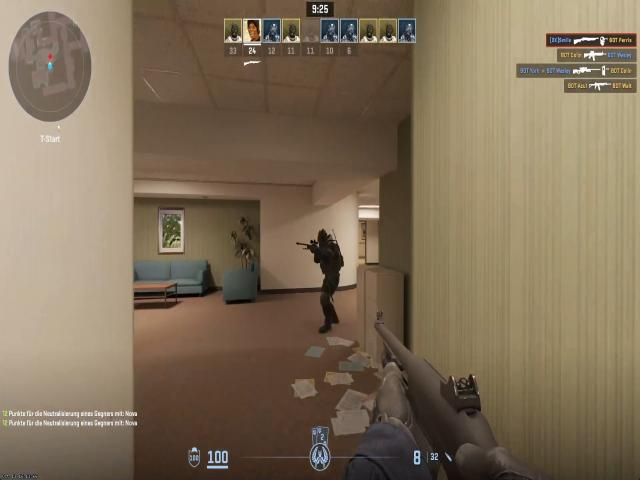CT: (313, 225, 345, 330)
CT-Head: (314, 228, 332, 247)
